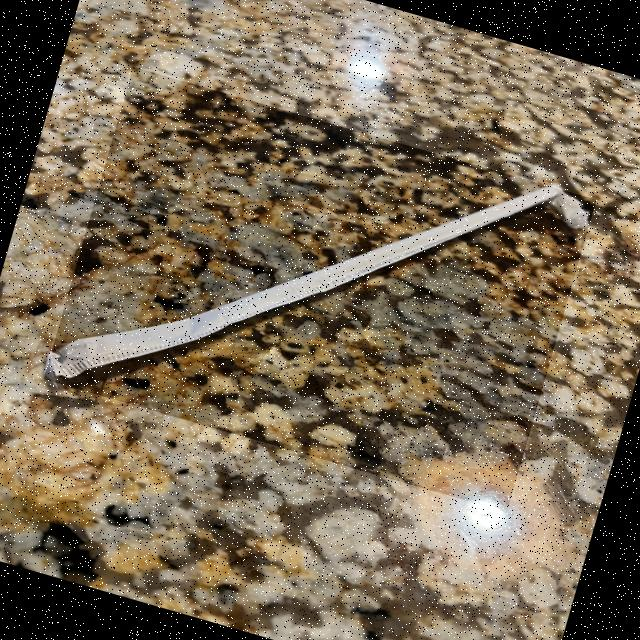Paper straw: (51, 185, 589, 382)
